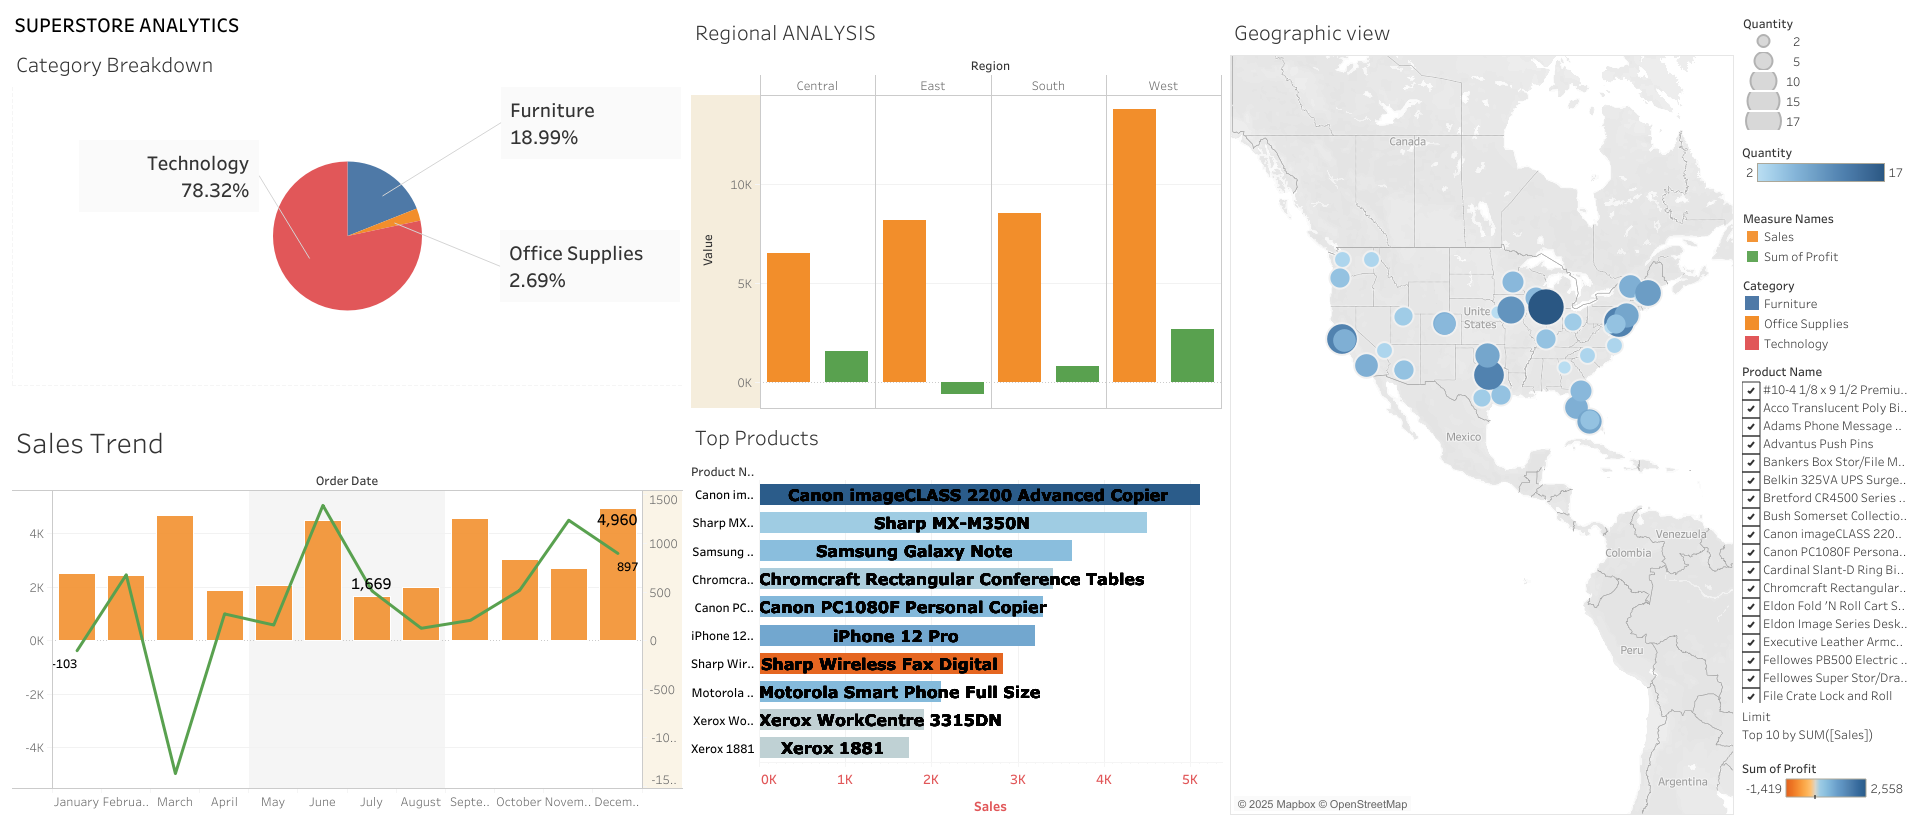

The page's visual inventory and layout, read from the dashboard file:
{"tool":"tableau","page":{"name":"Superstore Analytics","canvas":[1000,1000],"units":"permille","ordinal":0},"visuals":[{"type":"text","box":[4.2,9.7,353.8,38.7]},{"type":"worksheet","title":"Regional ANALYSIS ","mark":"Automatic","cols":["Region"],"box":[358,9.7,280.4,490.3]},{"type":"worksheet","title":"Geographic view","mark":"Circle","box":[638.4,9.7,266.8,980.7]},{"type":"legend","title":"Geographic view","param":"[federated.1dvp0r91yfxpi7109ayf71p5gwhl].[sum:Quantity:qk]","box":[905.2,9.7,90.6,152.3]},{"type":"worksheet","title":"Category Breakdown","mark":"Pie","box":[4.2,48.4,353.8,422]},{"type":"legend","title":"Geographic view","param":"[federated.1dvp0r91yfxpi7109ayf71p5gwhl].[sum:Quantity:qk]","box":[905.2,162,90.6,78.6]},{"type":"legend","title":"Sales Trend","param":"[federated.1dvp0r91yfxpi7109ayf71p5gwhl].[:Measure Names]","box":[905.2,240.6,90.6,79.8]},{"type":"legend","title":"Category Breakdown","param":"[federated.1dvp0r91yfxpi7109ayf71p5gwhl].[none:Category:nk]","box":[905.2,320.4,90.6,104]},{"type":"filter","title":"Top Products","param":"[federated.1dvp0r91yfxpi7109ayf71p5gwhl].[none:Product Name:nk]","box":[905.2,424.4,90.6,487.3]},{"type":"worksheet","title":"Sales Trend","mark":"Line","rows":["Sales","Profit"],"cols":["Order Date"],"box":[4.2,499.4,353.8,490.9]},{"type":"worksheet","title":"Top Products","mark":"Automatic","rows":["Product Name"],"cols":["Sales"],"box":[358,500,280.4,490.4]},{"type":"legend","title":"Top Products","param":"[federated.1dvp0r91yfxpi7109ayf71p5gwhl].[sum:Profit:qk]","box":[905.2,911.7,90.6,78.6]}]}

Visuals, with their boxes on the dashboard's canvas, which has no fixed pixel size, in thousandths of its width and height (x1, y1, x2, y2). These are canvas units, not pixel positions in the 1919x826 screenshot, which may show the page scaled, cropped or inside an application window:
text: bbox=(4, 10, 358, 48)
"Regional ANALYSIS " worksheet: bbox=(358, 10, 638, 500)
"Geographic view" worksheet (Circle marks): bbox=(638, 10, 905, 990)
"Geographic view" legend: bbox=(905, 10, 996, 162)
"Category Breakdown" worksheet (Pie marks): bbox=(4, 48, 358, 470)
"Geographic view" legend: bbox=(905, 162, 996, 241)
"Sales Trend" legend: bbox=(905, 241, 996, 320)
"Category Breakdown" legend: bbox=(905, 320, 996, 424)
"Top Products" filter: bbox=(905, 424, 996, 912)
"Sales Trend" worksheet (Line marks): bbox=(4, 499, 358, 990)
"Top Products" worksheet: bbox=(358, 500, 638, 990)
"Top Products" legend: bbox=(905, 912, 996, 990)
